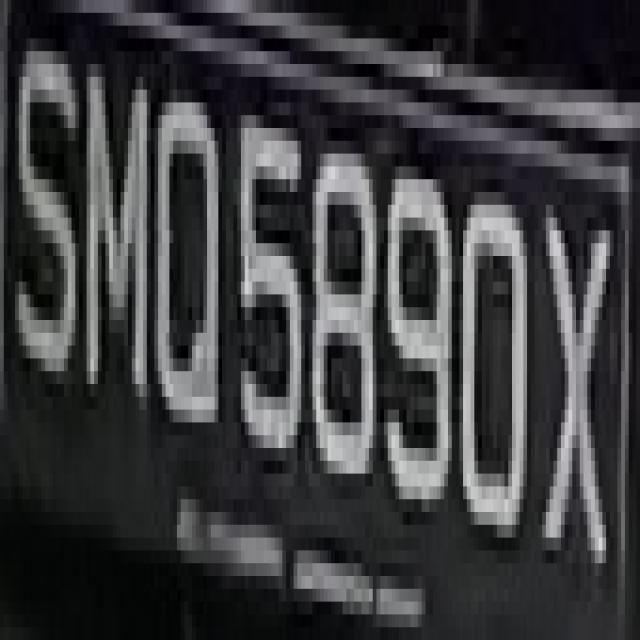0: (444, 154, 535, 588)
5: (230, 90, 308, 487)
8: (309, 90, 384, 550)
9: (372, 128, 452, 550)
M: (79, 64, 158, 461)
Q: (146, 64, 230, 512)
S: (7, 25, 83, 422)
X: (535, 154, 625, 602)
